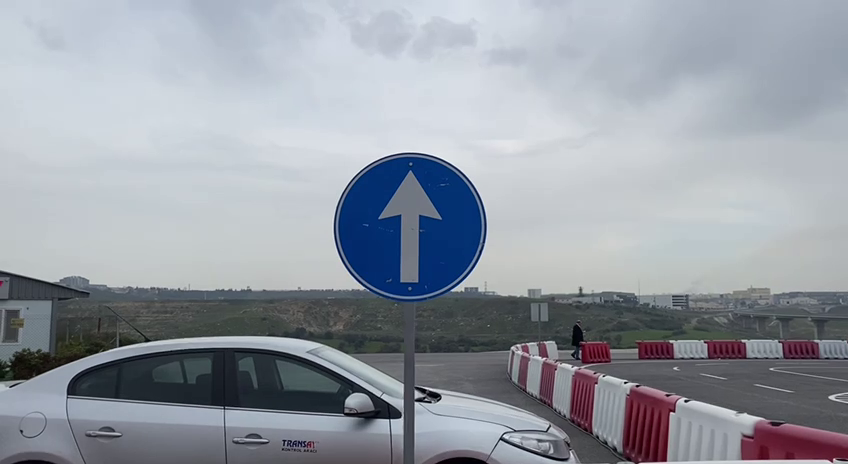forward: (331, 149, 490, 304)
